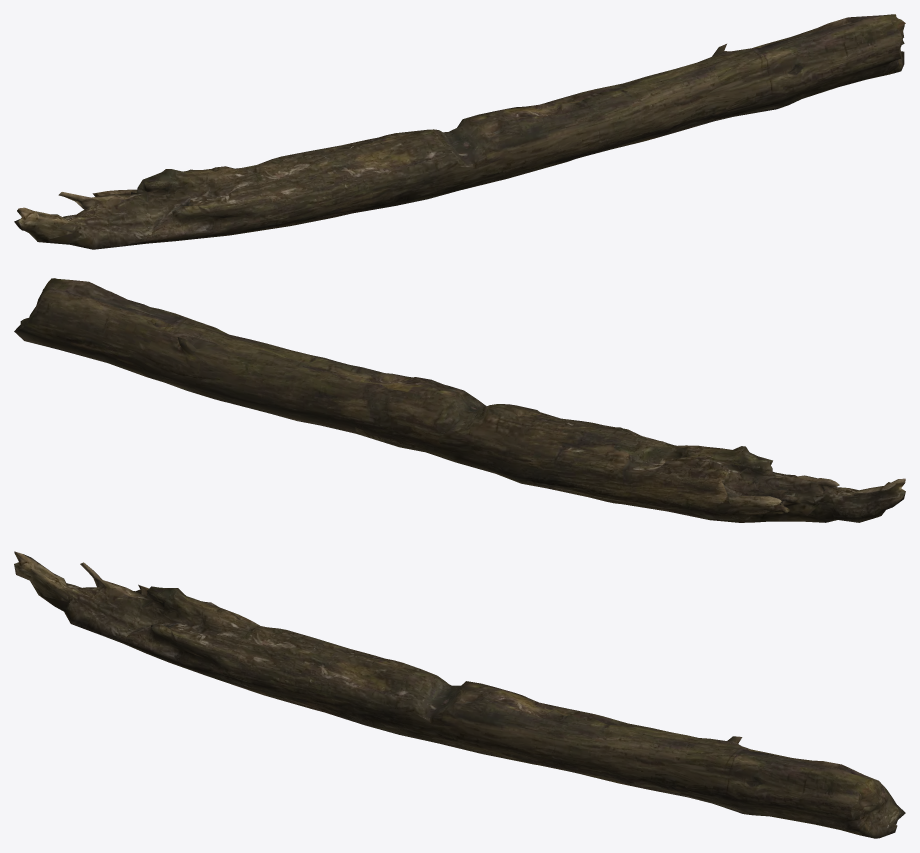
Rendered from pv_log.glb.
3 views of the same model, one above another, from view 1: azimuth 30°, elevation 25°; view 2: azimuth 150°, elevation 25°; view 3: azimuth 330°, elevation 25° (orthographic).
Parts seen in each view (by area): view 1: pv_log; view 2: pv_log; view 3: pv_log.
Part boxes in pixels (x1,y1,x2,y2): pv_log: [14, 14, 905, 249]; pv_log: [14, 278, 905, 522]; pv_log: [14, 551, 905, 838].
Bounding box in the file's own units: 3.05 × 0.29 × 0.2766.
1 material, 1 textured.
